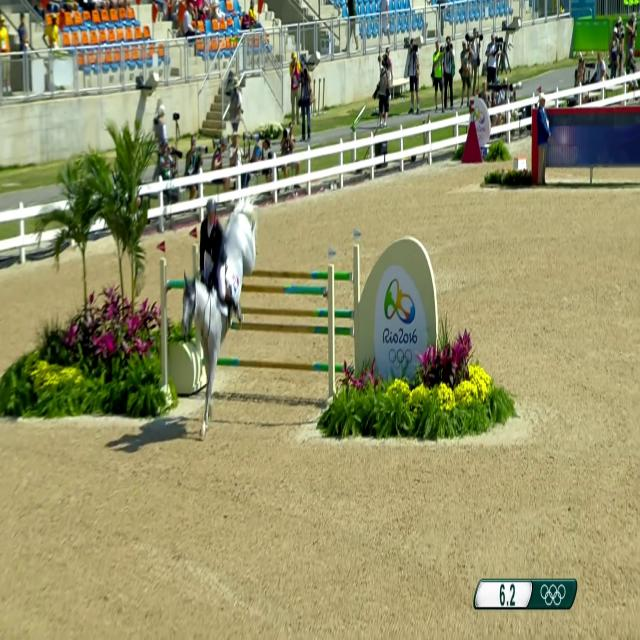Horse Jumping: (177, 196, 281, 355)
